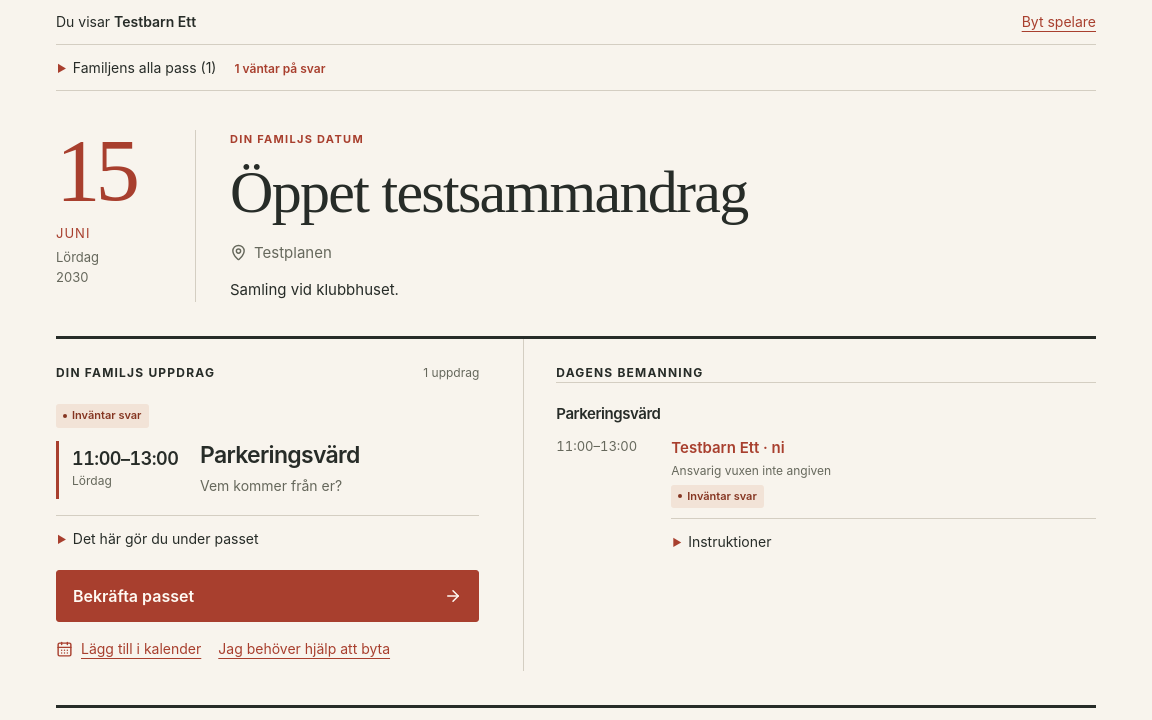
portal without email › keeps confirmation and calendar available without offering email subscriptions
The image size is (1152, 720).
Expected: the button "Bekräfta passet" is shown, [56,570,479,622]
Click the button "Lägg till i kalender": x=129, y=649 [56,627,201,671]
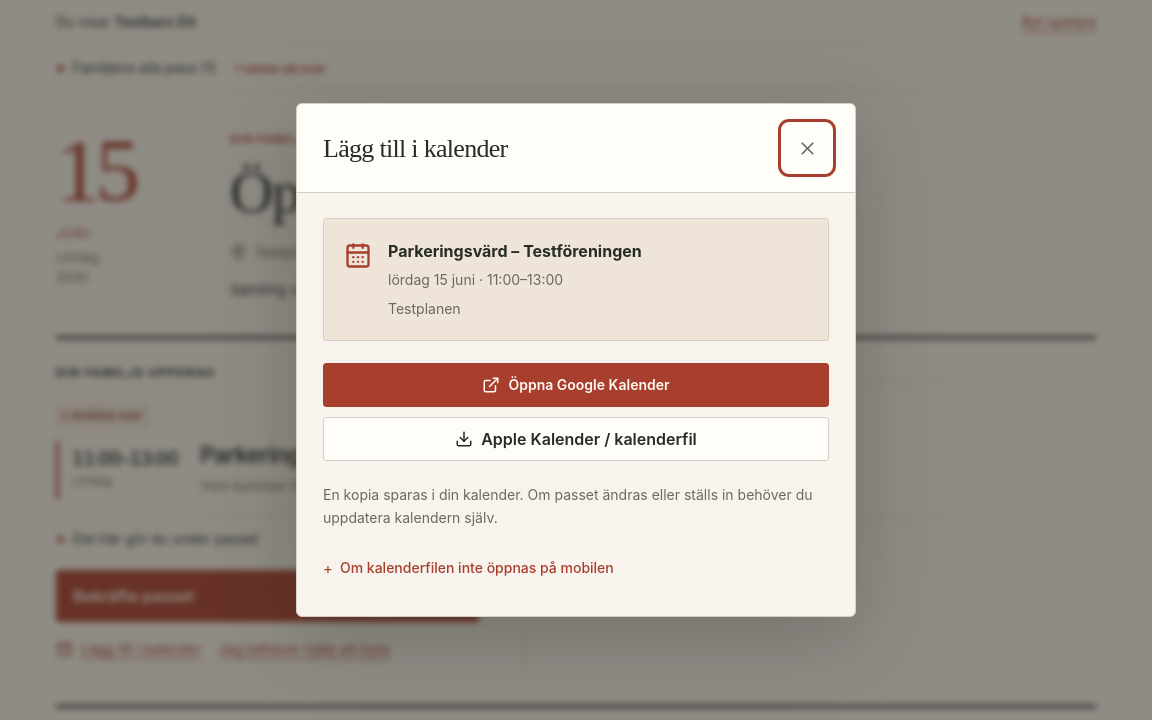
Result: the dialog "Lägg till i kalender" is shown at [296,103,856,617]
